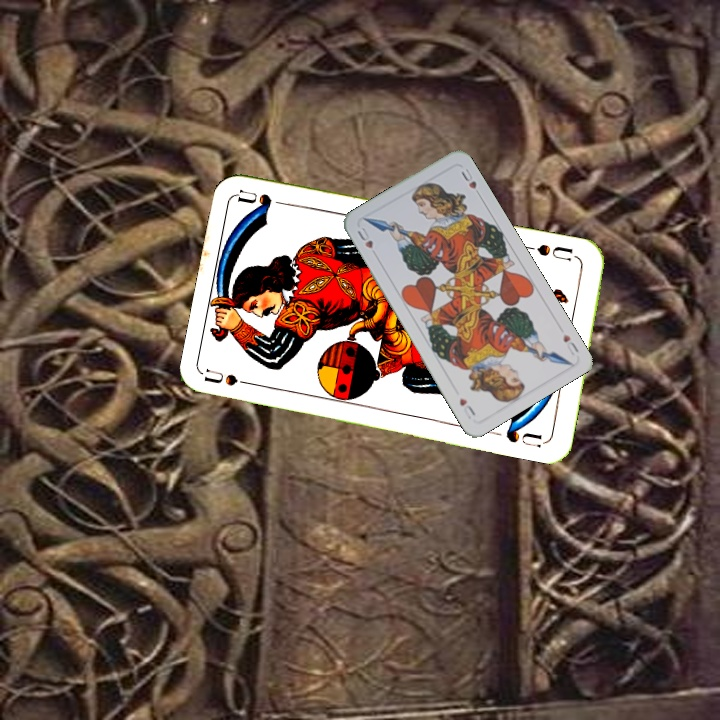HU: (353, 222, 376, 251), (559, 330, 582, 358)
SU: (202, 365, 262, 389), (523, 240, 582, 264)
